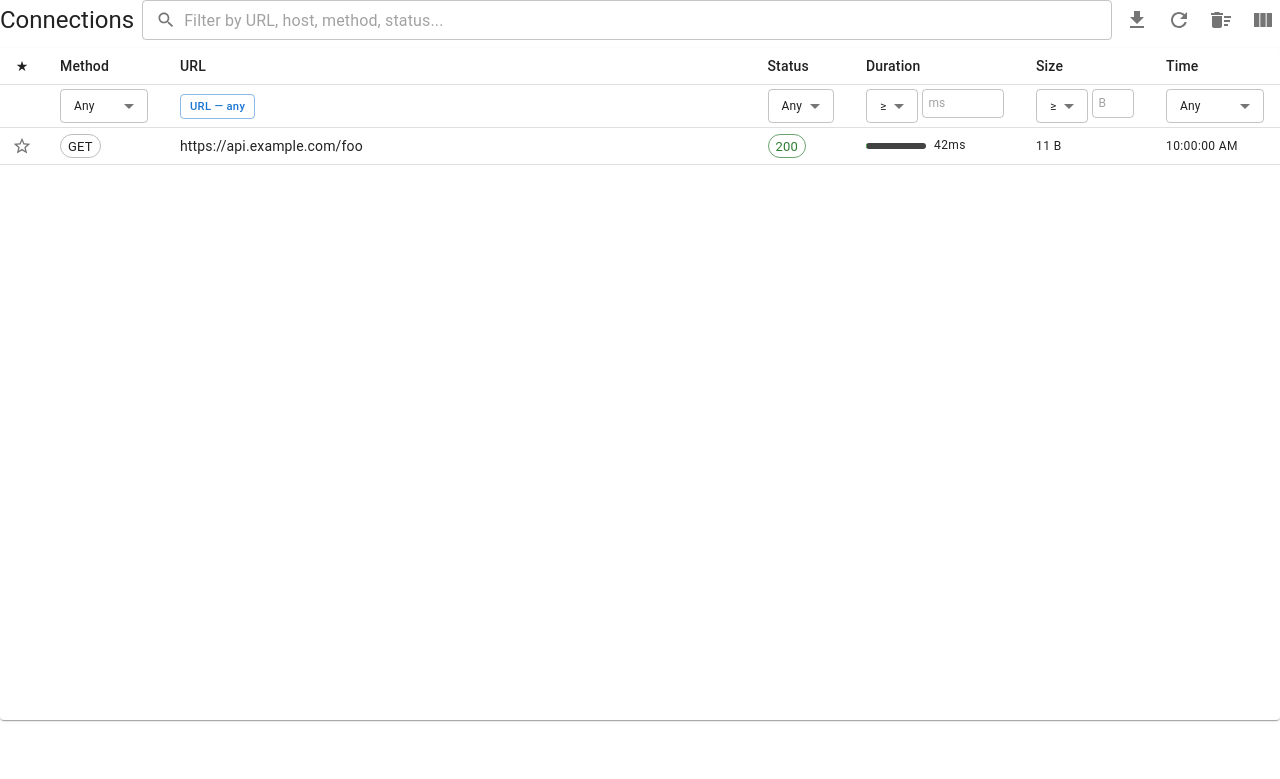
Test case: ConnectionsPage — formatters › pretty-prints CSS when Format is clicked on a css body
Click the text "https://api.example.com/foo" at (458, 147), box x1=164 y1=128 x2=752 y2=165
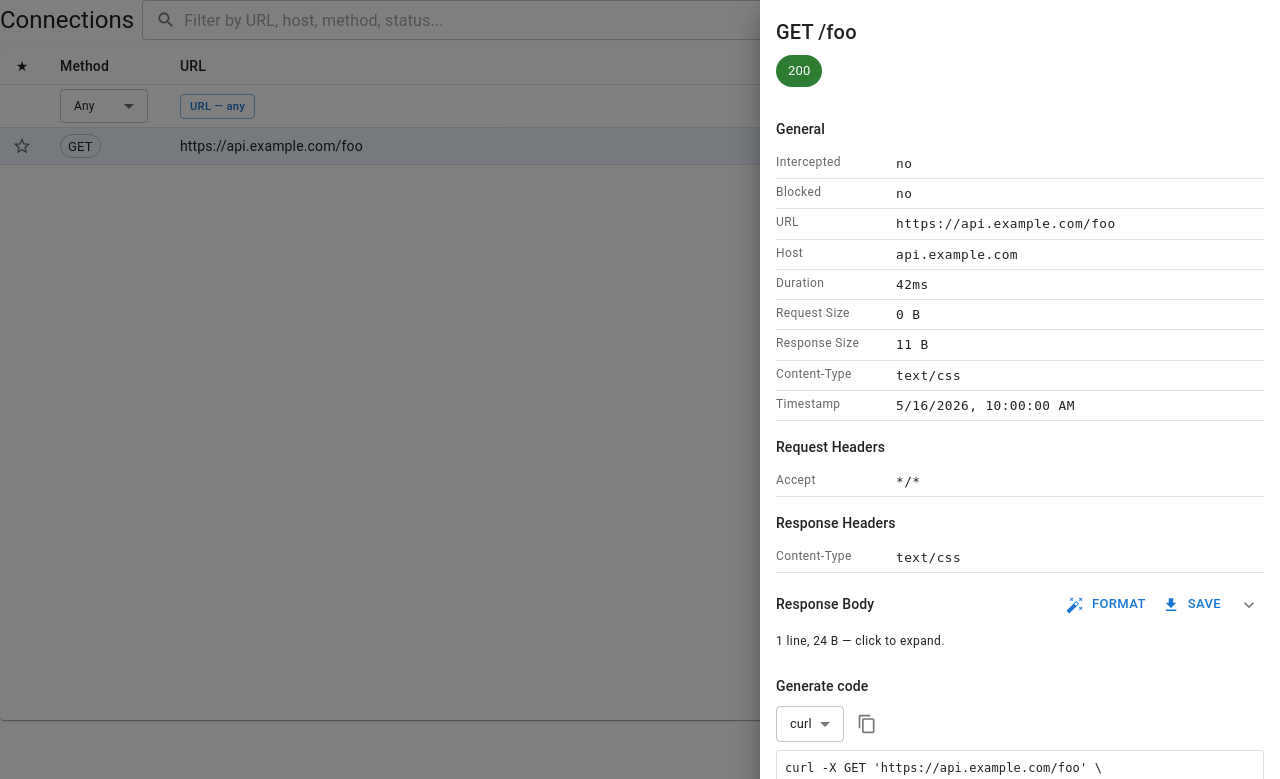
Click the button with test id "response-body-format" at (1107, 605), box x1=1063 y1=590 x2=1151 y2=620
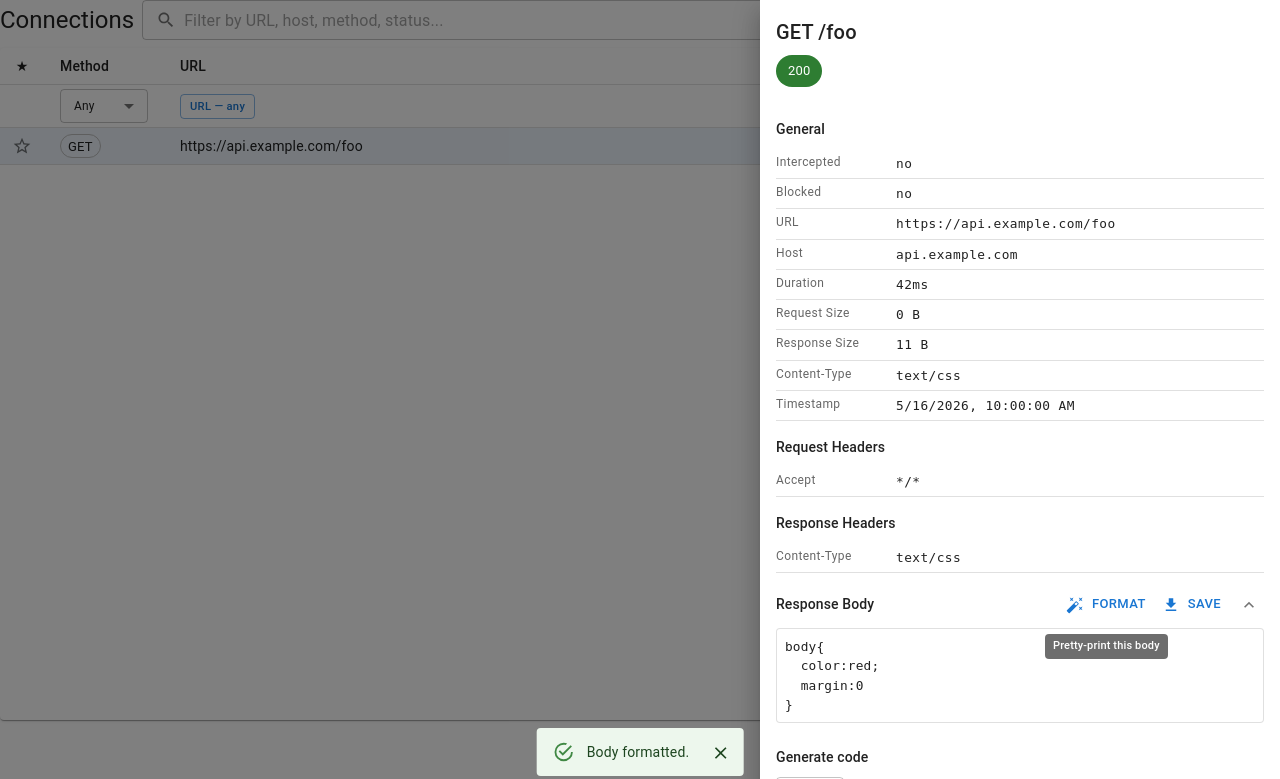
expect the text with test id "body-preview-text" reads "body{ color:red; margin:0 }": met, box x1=785 y1=639 x2=879 y2=712
expect the text with test id "body-preview-text" shows "color:red;": met, box x1=785 y1=639 x2=879 y2=712
